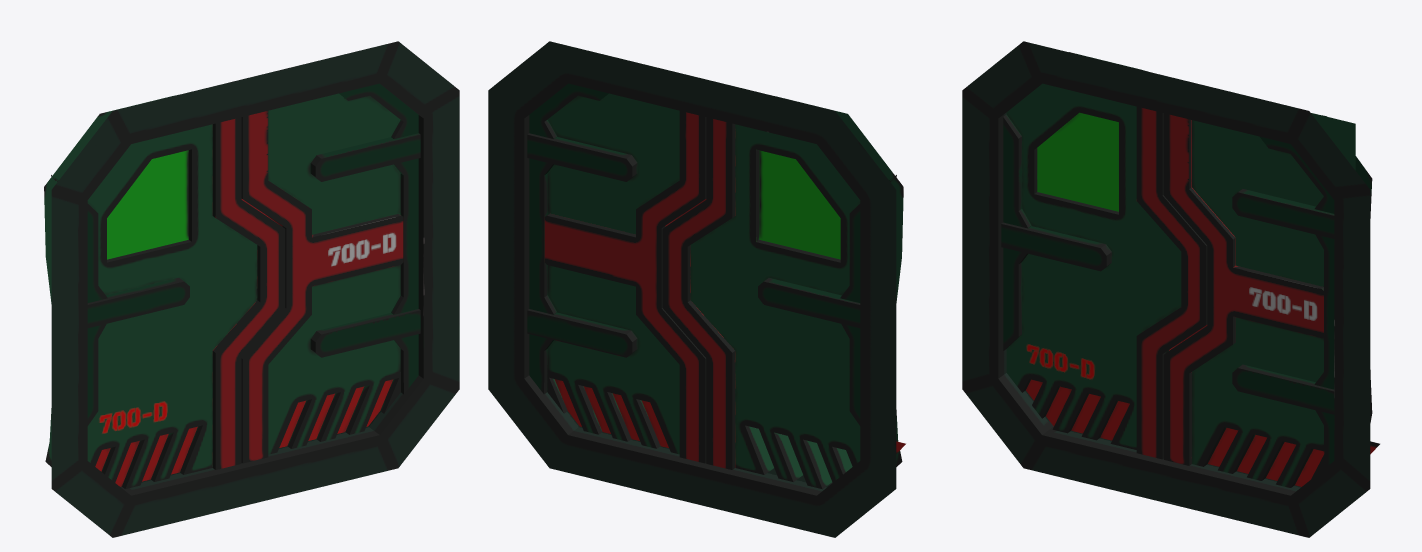
The model's file is DEF2.fbx.
3 renders of one model, left to right at view 1: azimuth 30°, elevation 25°; view 2: azimuth 150°, elevation 25°; view 3: azimuth 330°, elevation 25°, orthographic.
Visible parts, largest first — view 1: polySurface26, pasted__pCube1, polySurface59; view 2: polySurface26, pasted__pCube1, polySurface59; view 3: polySurface26, pasted__pCube1, polySurface59.
Boxes of the visible parts, bbox=[...] form: polySurface26: bbox=[44, 95, 285, 488]; pasted__pCube1: bbox=[51, 41, 459, 537]; polySurface59: bbox=[241, 83, 420, 463]; polySurface26: bbox=[662, 96, 905, 489]; pasted__pCube1: bbox=[488, 41, 896, 537]; polySurface59: bbox=[527, 83, 706, 463]; polySurface26: bbox=[1001, 52, 1207, 459]; pasted__pCube1: bbox=[962, 41, 1370, 537]; polySurface59: bbox=[1163, 113, 1379, 487].
Size of the model in its own units: 4.26 by 4.26 by 0.6725.
1 material, 1 textured.
